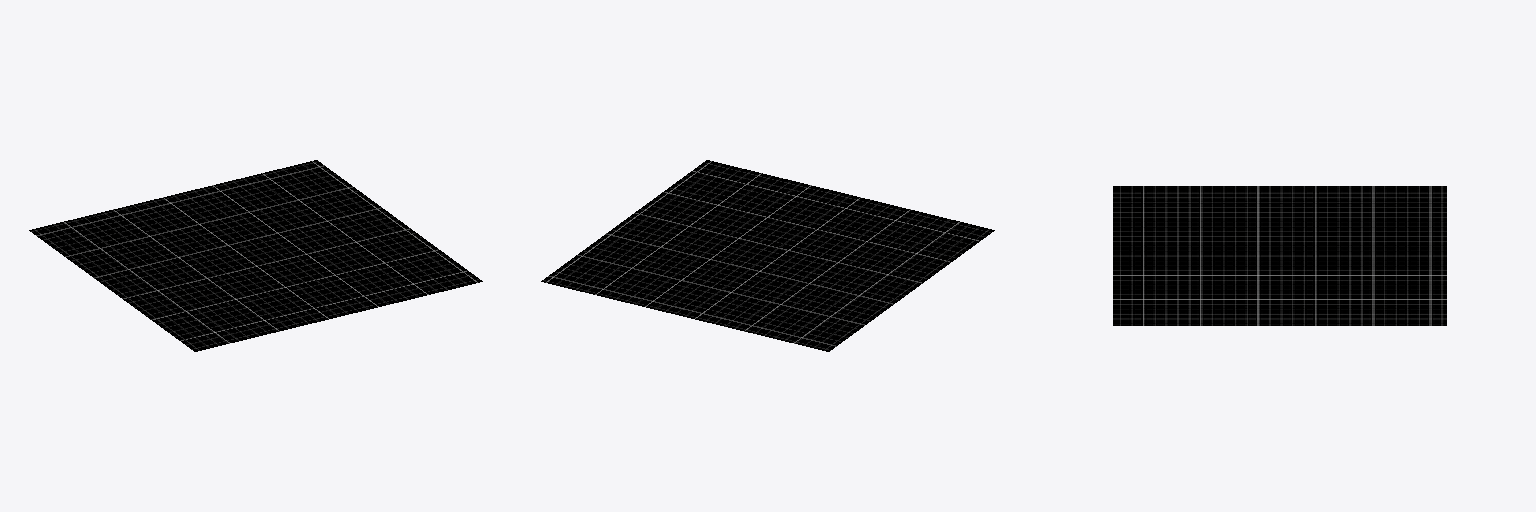
The picture shows the model from 3 angles: view 1: azimuth 30°, elevation 25°; view 2: azimuth 150°, elevation 25°; view 3: azimuth 270°, elevation 25°; orthographic projection.
Visible parts, largest first — view 1: Plane; view 2: Plane; view 3: Plane.
Part boxes in pixels (x1,y1,x2,y2): Plane: (29, 160, 482, 351); Plane: (541, 160, 994, 351); Plane: (1113, 186, 1446, 325).
Bounding box in the file's own units: 2 × 0 × 2.
Materials: 1 (1 with a texture image).